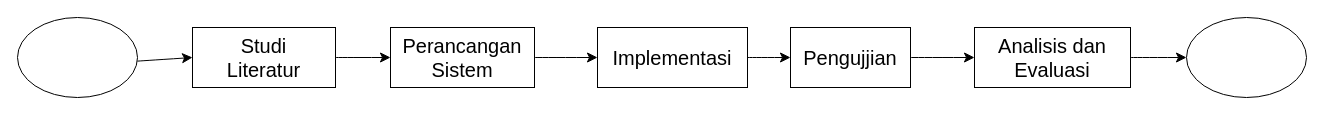
Image size: 1324x115. Some labels were removed from this diagram. The centre of each missing label's shape, as x and y in pixels:
"Mulai" goes at point (77, 57).
"Selesai" goes at point (1246, 57).
